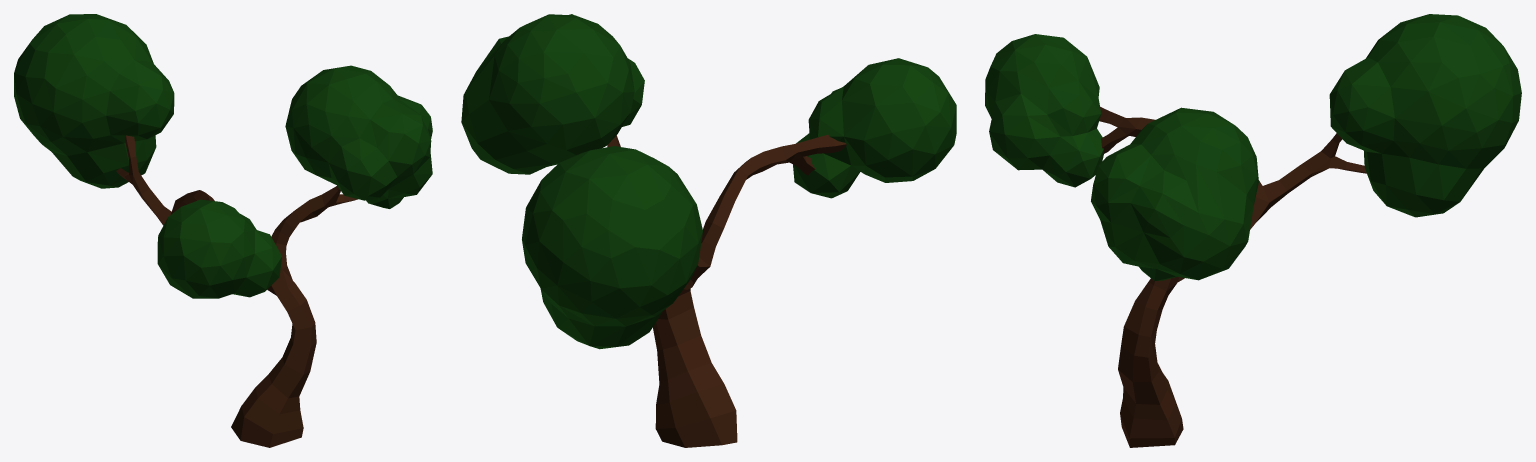
File: Tree3.FBX
3 views of the same model, side by side, from view 1: azimuth 30°, elevation 25°; view 2: azimuth 150°, elevation 25°; view 3: azimuth 270°, elevation 25° (orthographic). The views are drawn at different scales.
Visible parts, largest first — view 1: LowPoly_Tree_03_lowpoly_tree_01_Plane_013; view 2: LowPoly_Tree_03_lowpoly_tree_01_Plane_013; view 3: LowPoly_Tree_03_lowpoly_tree_01_Plane_013.
Boxes of the visible parts, bbox=[...] form: LowPoly_Tree_03_lowpoly_tree_01_Plane_013: bbox=[14, 14, 432, 447]; LowPoly_Tree_03_lowpoly_tree_01_Plane_013: bbox=[461, 14, 956, 447]; LowPoly_Tree_03_lowpoly_tree_01_Plane_013: bbox=[985, 14, 1521, 447].
Size of the model in its own units: 3.25 by 3.25 by 4.13.
